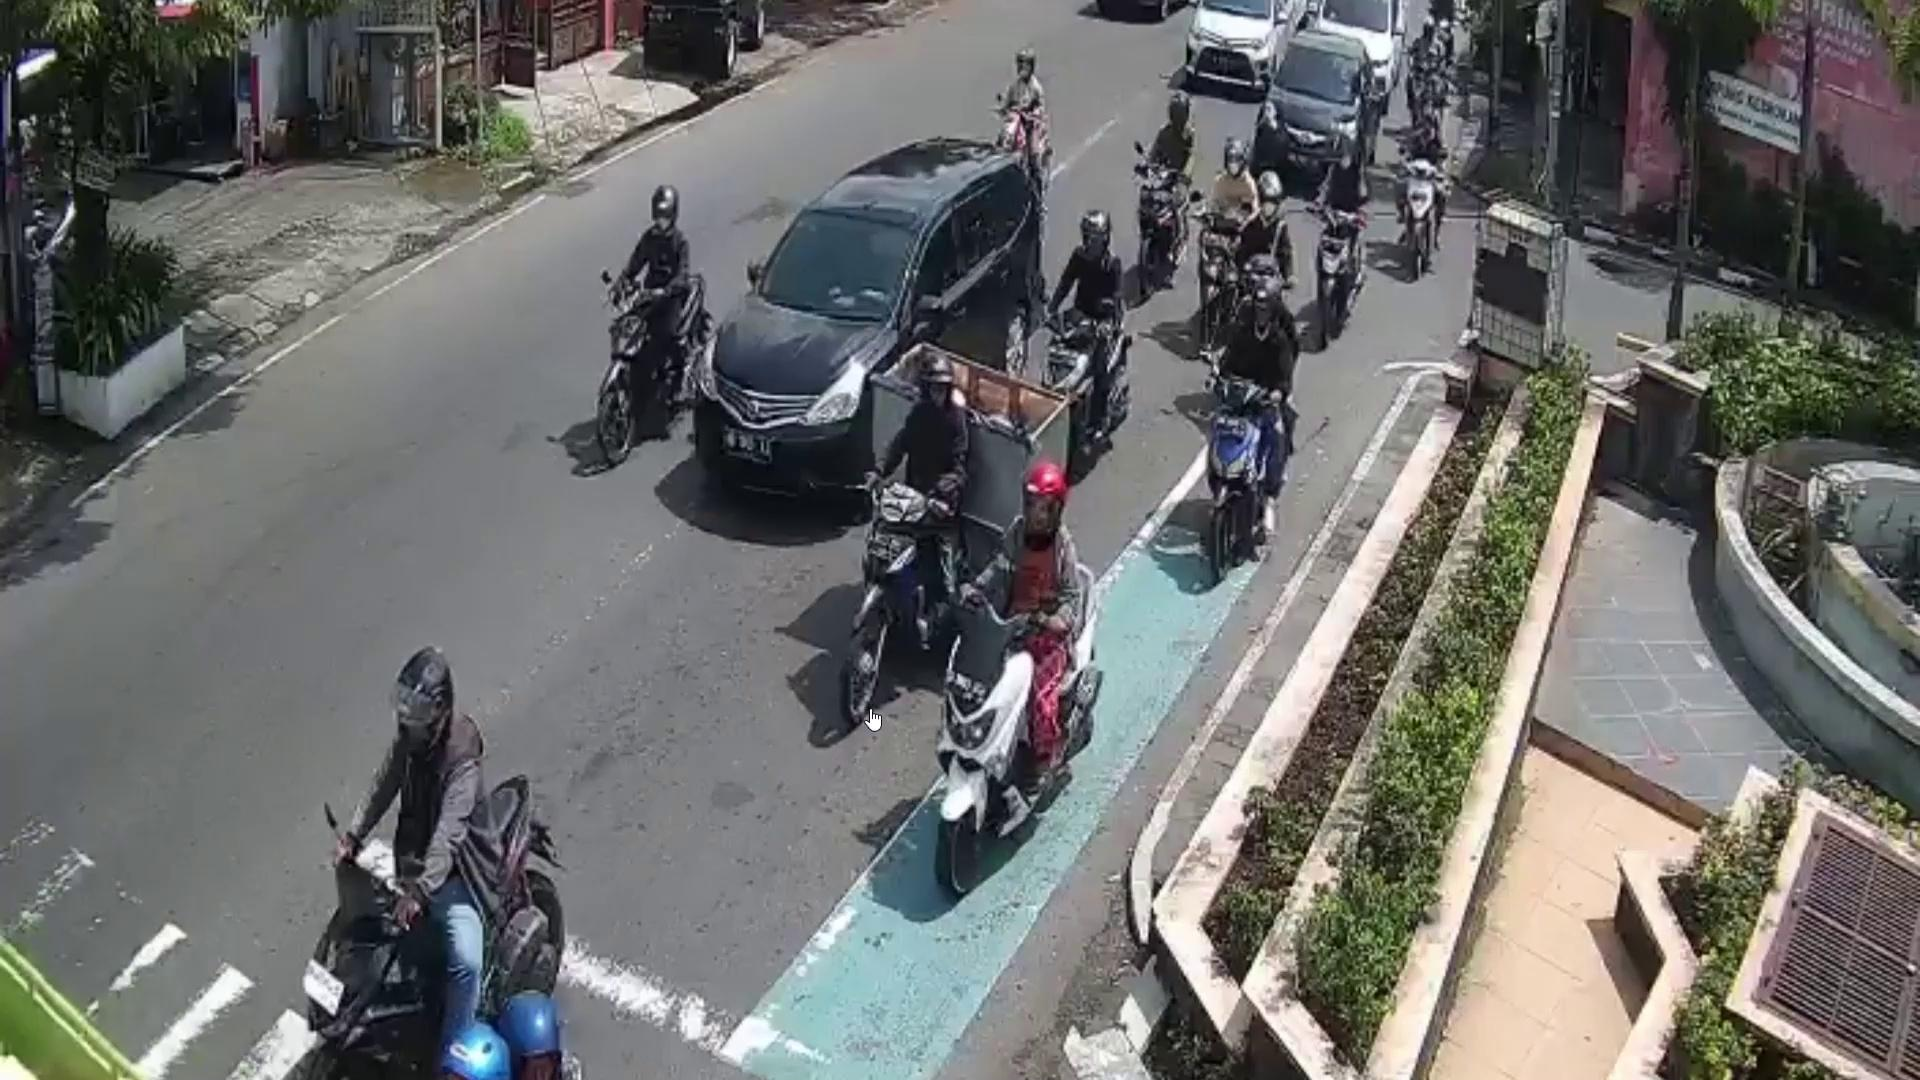car: (694, 140, 1042, 510), (1262, 28, 1378, 198), (1184, 0, 1299, 94)
motorbike: (301, 778, 567, 1080), (932, 555, 1105, 907), (836, 481, 957, 737), (592, 278, 717, 462), (1204, 371, 1294, 576), (1042, 310, 1134, 456), (1312, 204, 1370, 349), (1199, 210, 1247, 343), (1139, 166, 1185, 299), (1404, 158, 1444, 285), (1002, 107, 1054, 187)
